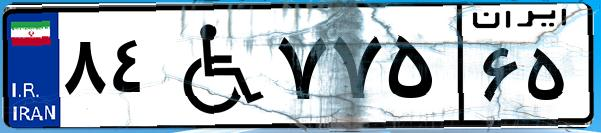4: (110, 28, 158, 98)
5: (385, 28, 445, 110), (525, 38, 570, 115)
6: (475, 38, 525, 113)
7: (270, 28, 330, 110), (330, 28, 385, 110)
8: (57, 26, 110, 100)
ژ (معلولین و جانبازان): (158, 12, 270, 120)
